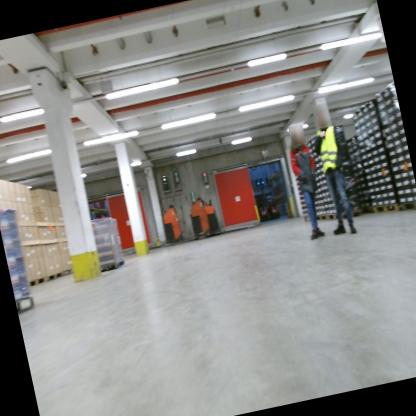pallet: (327, 207, 364, 223), (371, 200, 400, 218), (313, 208, 331, 228), (398, 195, 416, 214), (27, 274, 48, 290), (45, 269, 65, 283)
pallet_truck: (158, 199, 195, 246), (200, 190, 229, 238), (183, 193, 210, 241), (263, 190, 283, 218), (255, 192, 270, 223)
